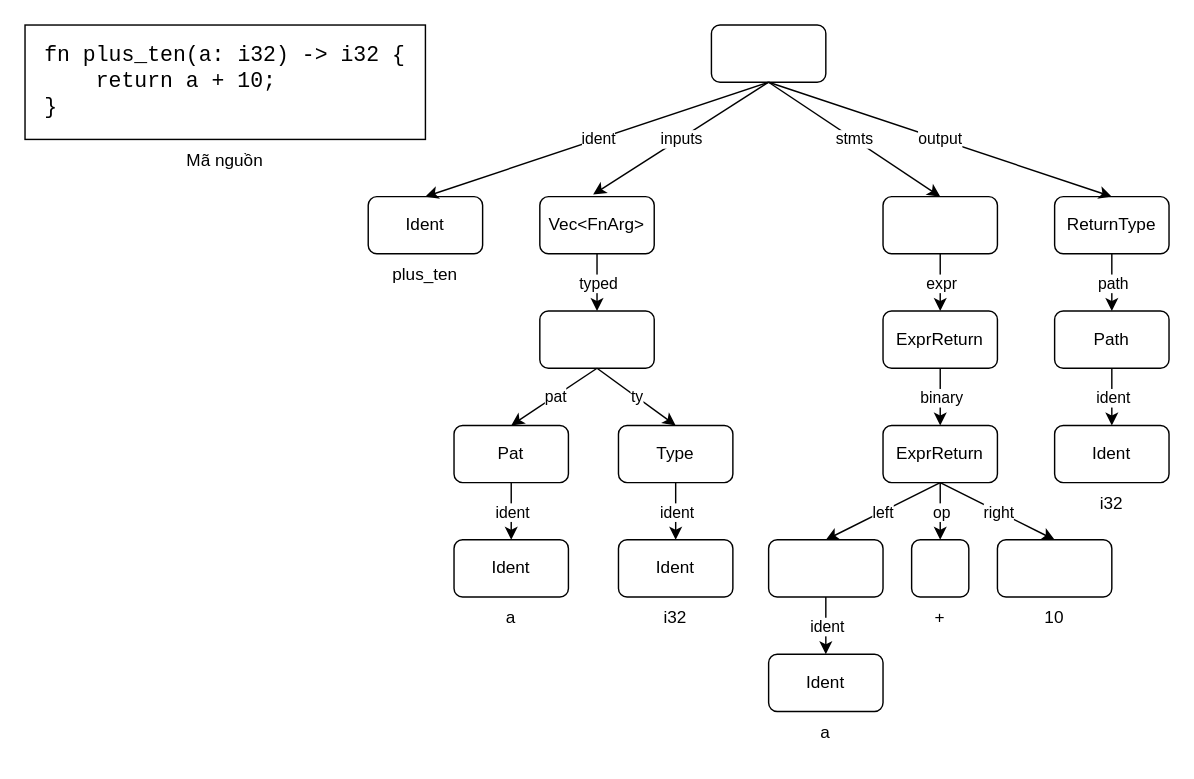
Image size: 1194x779. Some labels were removed from this diagram. Here are the shapes that lost their labels. From the top down, the box of each, then its label:
(710, 24, 826, 82): ItemFn
(882, 195, 997, 254): Vec<Stmt>
(538, 310, 654, 368): PatType
(767, 538, 883, 597): ExprPath
(910, 538, 969, 597): BinOp
(996, 538, 1112, 597): ExprLit
